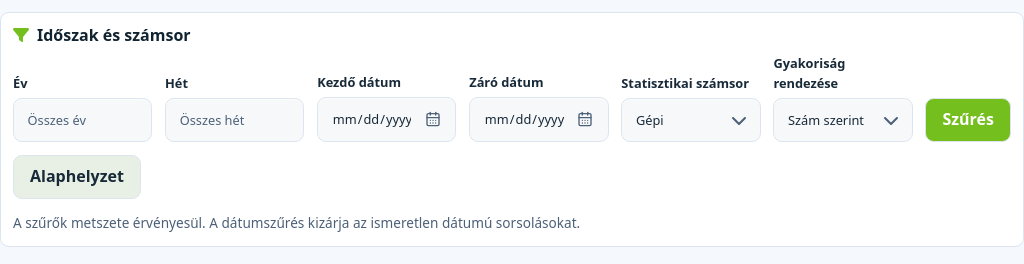
Test case: shareable statistics controls › clears draft fields and validity when URL defaults are already active
In the number field labelled "Év": x=83, y=120 [13,98,152,142], type "2024"
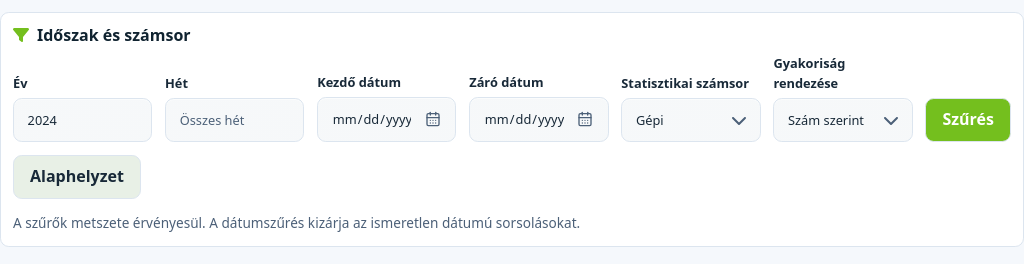
In the number field labelled "Hét": x=235, y=120 [165,98,304,142], type "12"
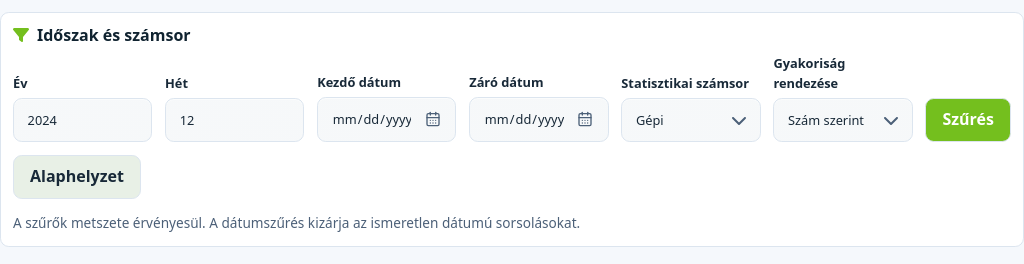
In the date field labelled "Kezdő dátum": x=387, y=119 [317,97,456,142], type "2024-03-01"
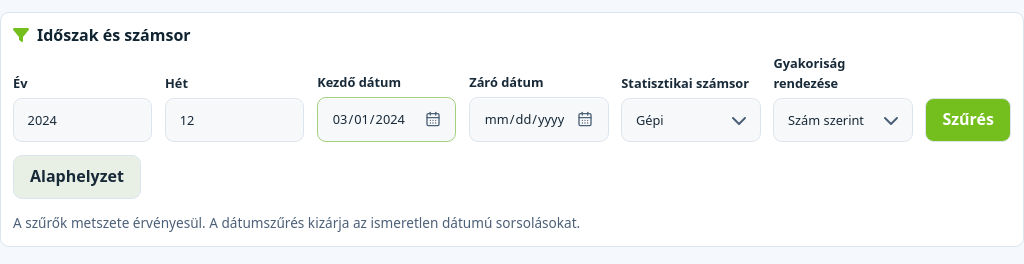
In the date field labelled "Záró dátum": x=539, y=119 [469,97,608,142], type "2024-02-29"
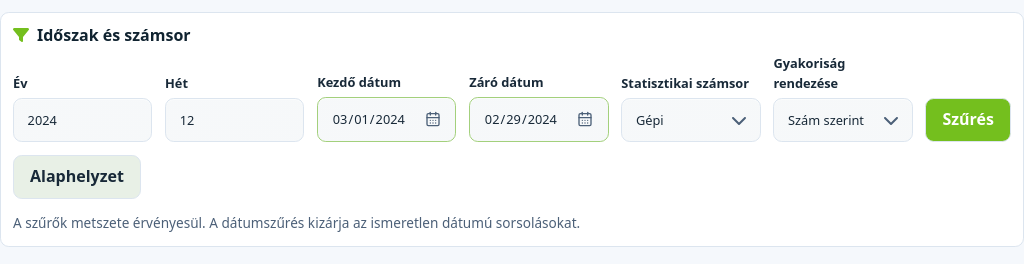
Click the button "Szűrés": x=968, y=120 [926,98,1011,142]
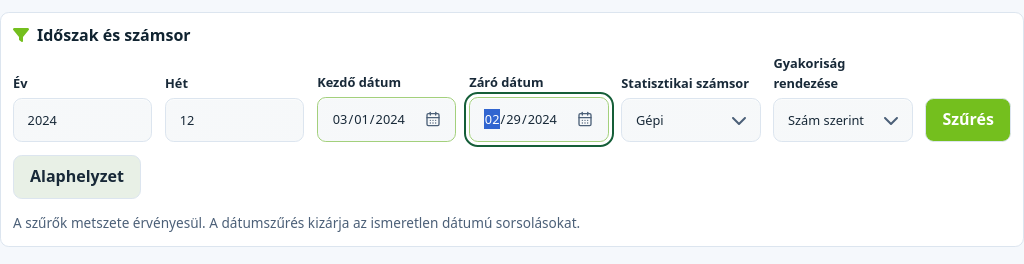
Click the button "Alaphelyzet": x=77, y=177 [13,155,141,199]
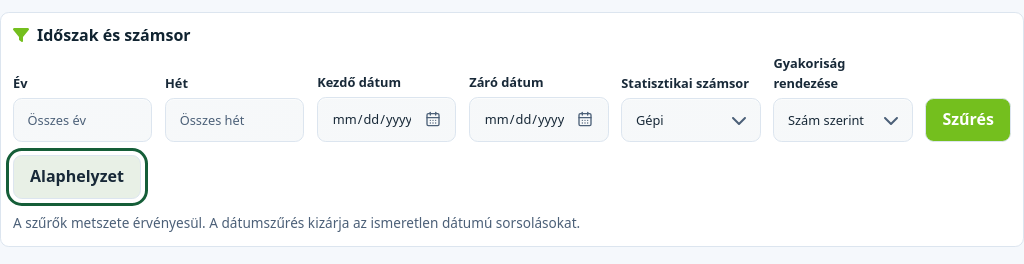
expect the number field labelled "Év" is not empty: met, box [13,98,152,142]
expect the number field labelled "Hét" is not empty: met, box [165,98,304,142]
expect the date field labelled "Kezdő dátum" is empty: met, box [317,97,456,142]
